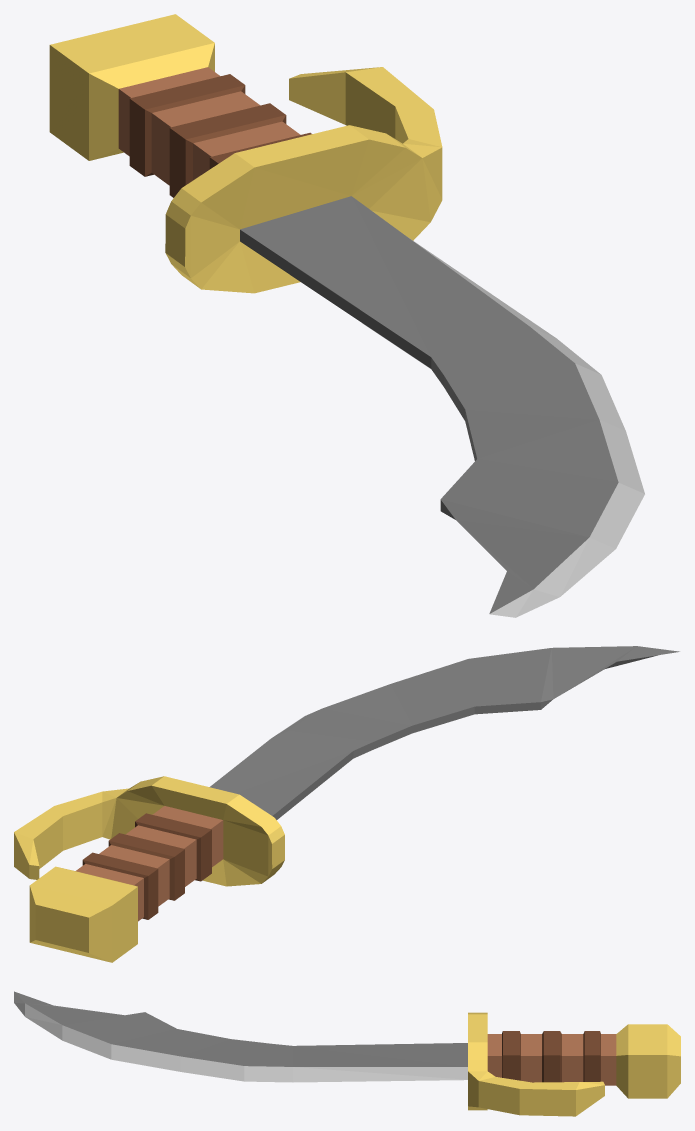
Rendered from piratesword.obj.
3 views of the same model, one above another, from view 1: azimuth 30°, elevation 25°; view 2: azimuth 150°, elevation 25°; view 3: azimuth 270°, elevation 25° (orthographic). The views are drawn at different scales.
Visible parts, largest first — view 1: Box002_Mesh; view 2: Box002_Mesh; view 3: Box002_Mesh.
Boxes of the visible parts, x1,y1,x2,y2 form: Box002_Mesh: (49,14,644,617); Box002_Mesh: (14,646,679,962); Box002_Mesh: (14,991,680,1116).
Bounding box in the file's own units: 0.7921 × 0.2092 × 2.01.
